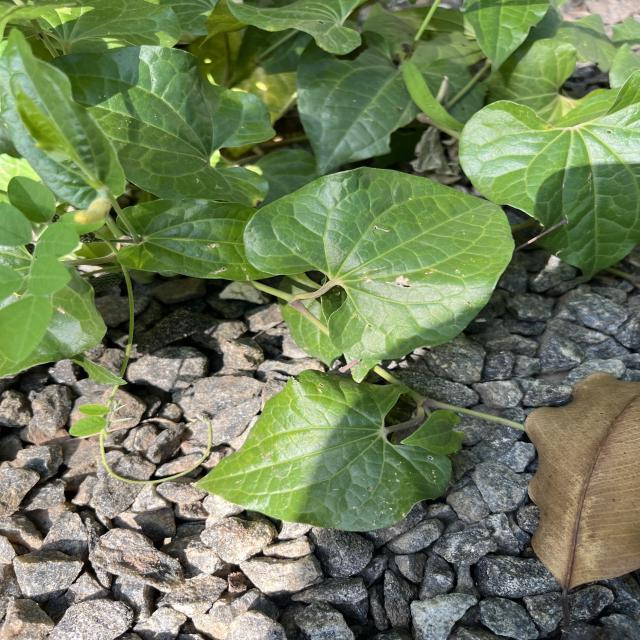Piper longum: (240, 164, 518, 361), (185, 366, 458, 535)
